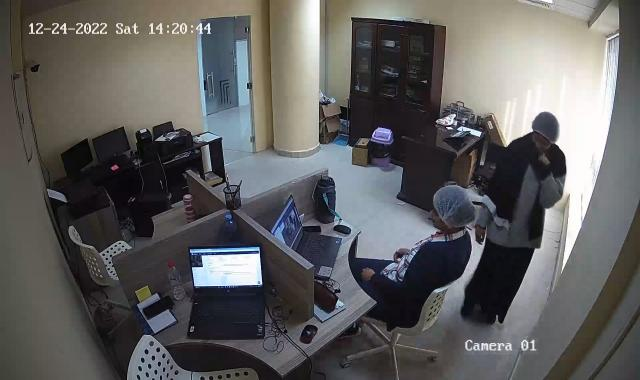hairnet: (429, 187, 478, 229), (532, 108, 560, 150)
